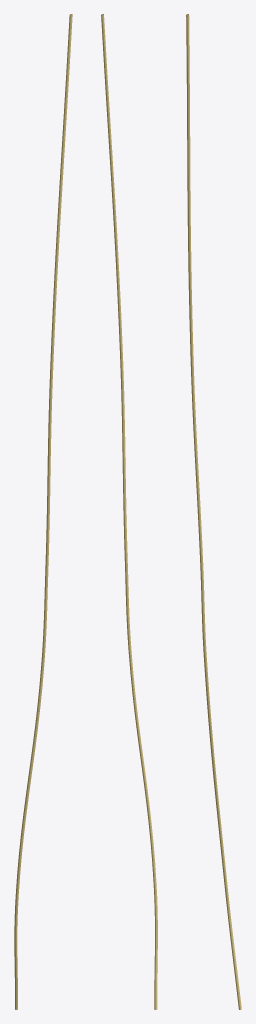
3 views of the same model, side by side, from view 1: azimuth 30°, elevation 25°; view 2: azimuth 210°, elevation 25°; view 3: azimuth 270°, elevation 25° (orthographic). The views are drawn at different scales.
Visible parts, largest first — view 1: ZA_402a2833f5809524; view 2: ZA_402a2833f5809524; view 3: ZA_402a2833f5809524.
Boxes of the visible parts, <box> form: ZA_402a2833f5809524: <box>14,14,72,1009</box>; ZA_402a2833f5809524: <box>101,14,157,1009</box>; ZA_402a2833f5809524: <box>186,14,241,1009</box>.
Bounding box in the file's own units: 0.014 × 0.361 × 0.0181.
